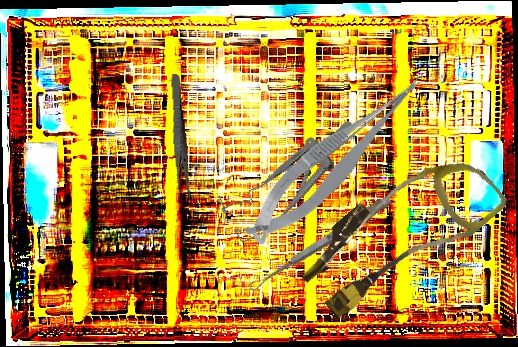Cannula: (290, 128, 510, 338)
Dressing Forceps: (167, 73, 192, 204)
Micro Scissor: (227, 66, 447, 254)
Speculum: (209, 118, 379, 246)
Surgical Spoon: (247, 195, 394, 293)
